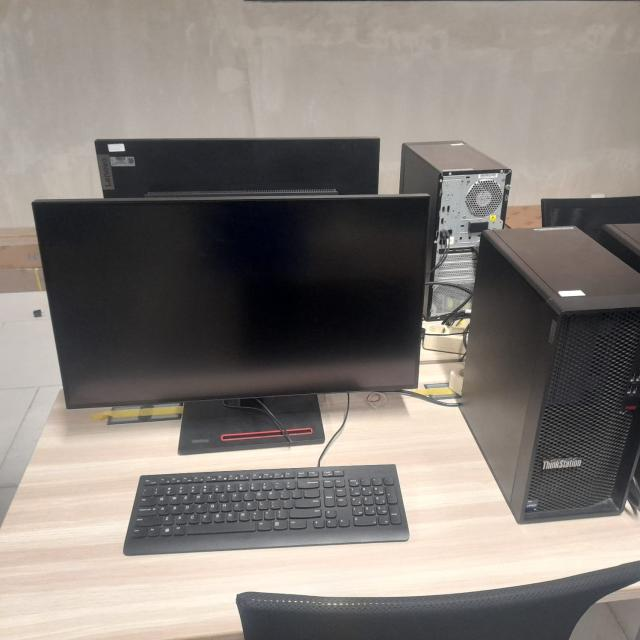keyboard: (123, 464, 409, 556)
monitor: (32, 194, 430, 456), (94, 136, 380, 198)
pc: (459, 225, 640, 525), (400, 141, 511, 320)
